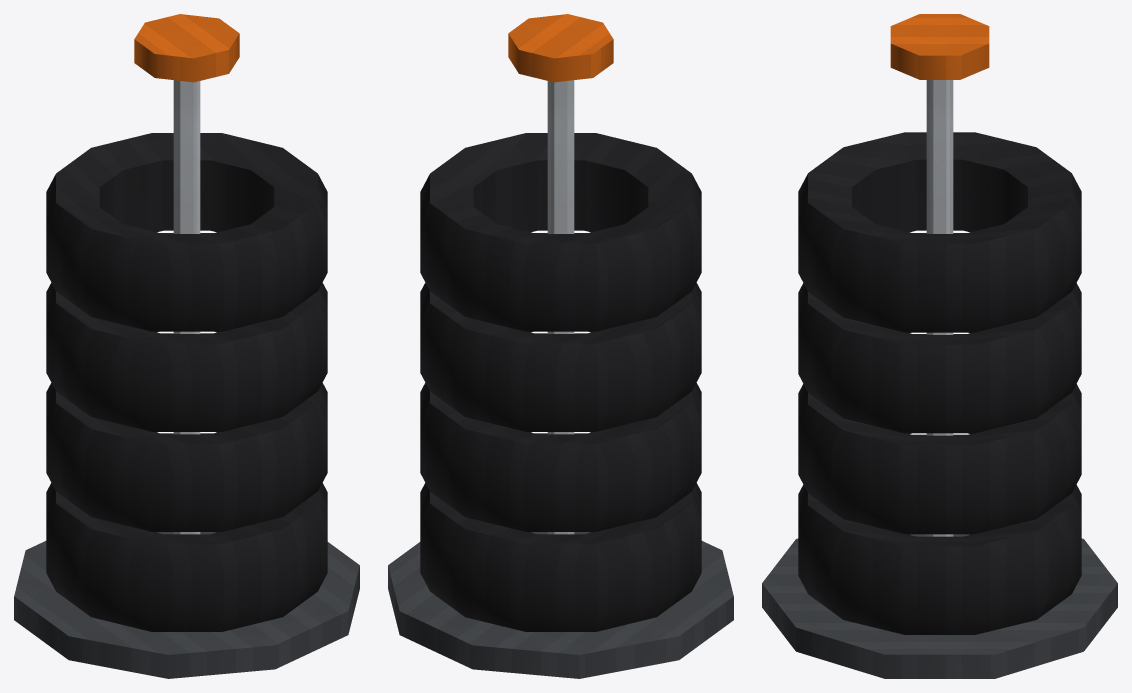
The model's file is expositor_pneus.glb.
3 views of the same model, side by side, from view 1: azimuth 30°, elevation 25°; view 2: azimuth 150°, elevation 25°; view 3: azimuth 270°, elevation 25° (orthographic).
Visible parts, largest first — view 1: Inteiro; view 2: Inteiro; view 3: Inteiro.
Boxes of the visible parts, bbox=[...] form: Inteiro: bbox=[14, 14, 359, 678]; Inteiro: bbox=[388, 14, 733, 678]; Inteiro: bbox=[762, 14, 1117, 678].
Bounding box in the file's own units: 0.7608 × 1.42 × 0.8.
Materials: 1 (1 with a texture image).
